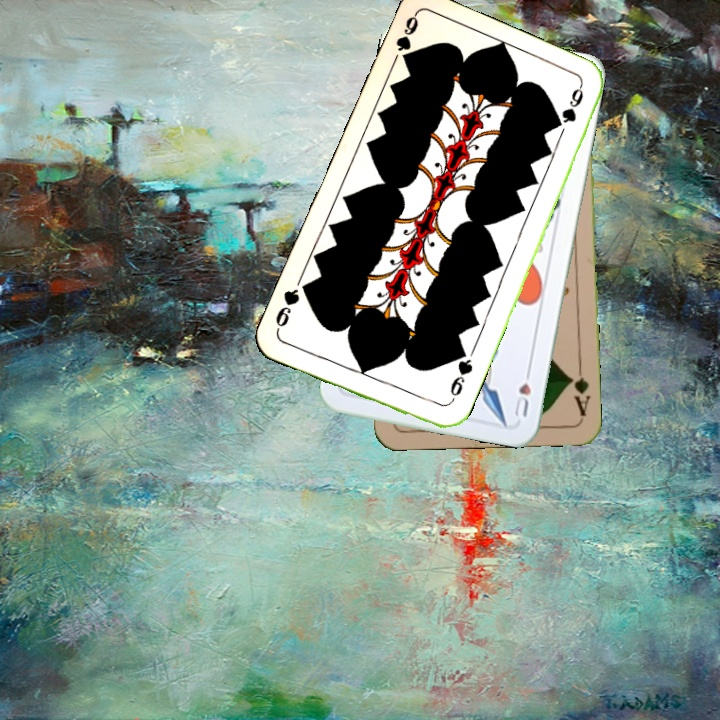G9: (443, 349, 476, 407), (388, 12, 421, 68)
GA: (565, 360, 592, 419)
HU: (510, 363, 534, 419)
